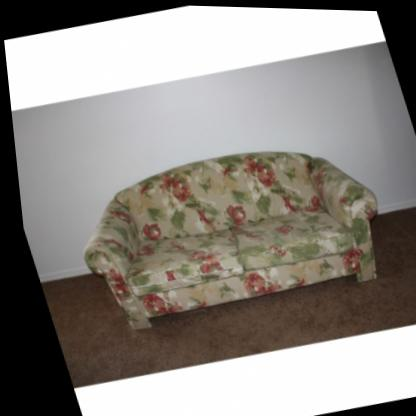Sofa: (51, 120, 401, 341)
